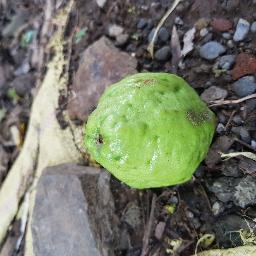Good_guava: (83, 67, 219, 195)
